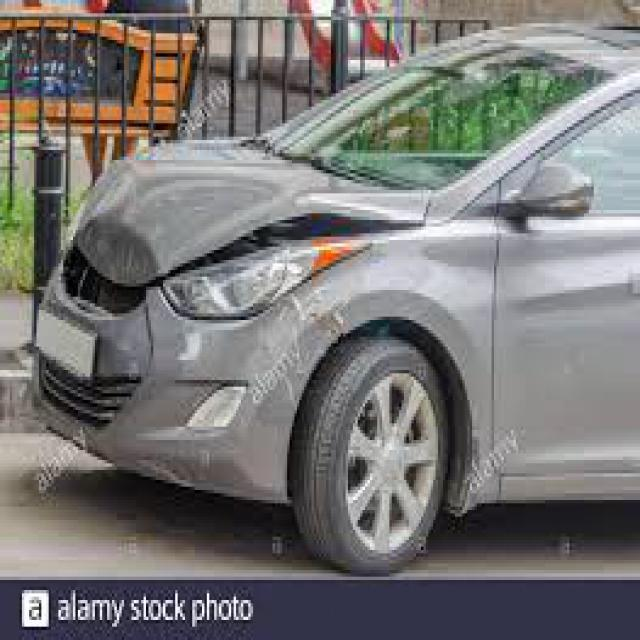bonnet-dent: (49, 147, 422, 310)
fender-dent: (345, 233, 498, 510)
front-bumper-dent: (90, 313, 309, 516)
